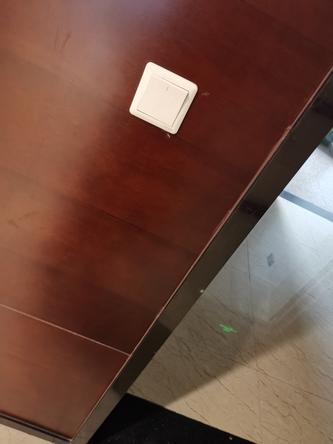switch: (126, 65, 193, 128)
